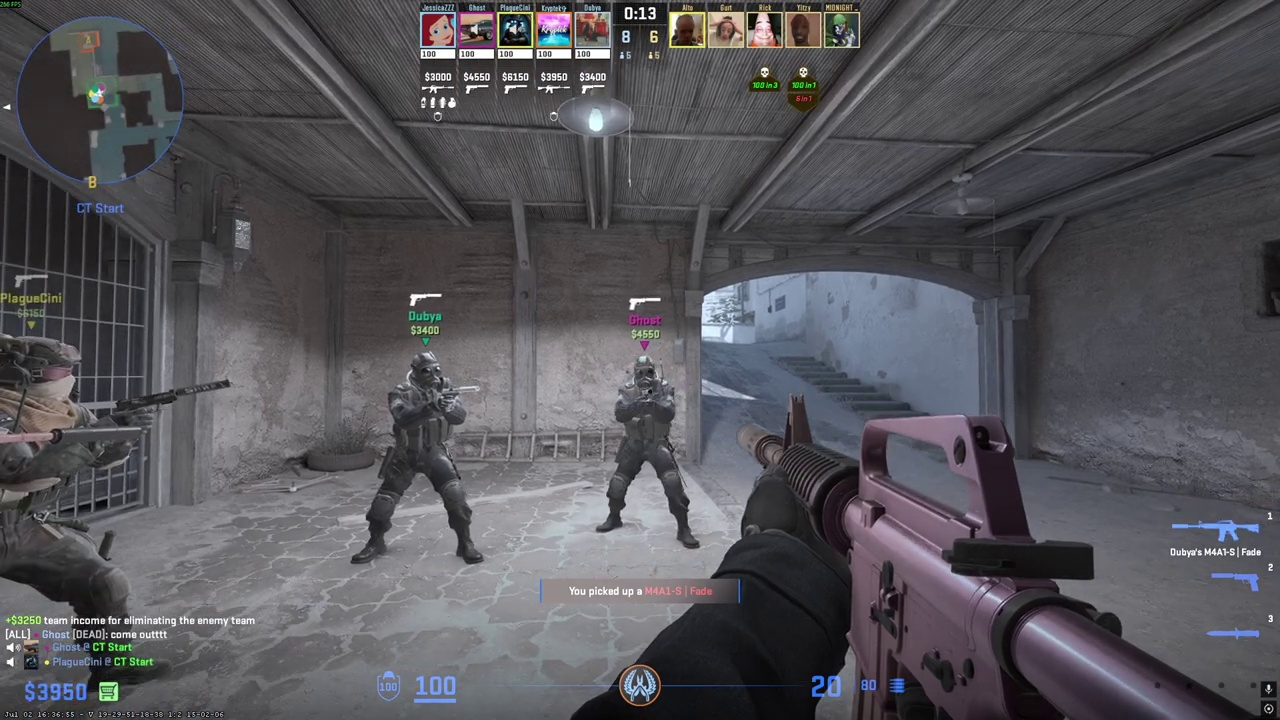CT: (0, 336, 136, 694), (358, 351, 484, 565), (596, 354, 693, 548)
